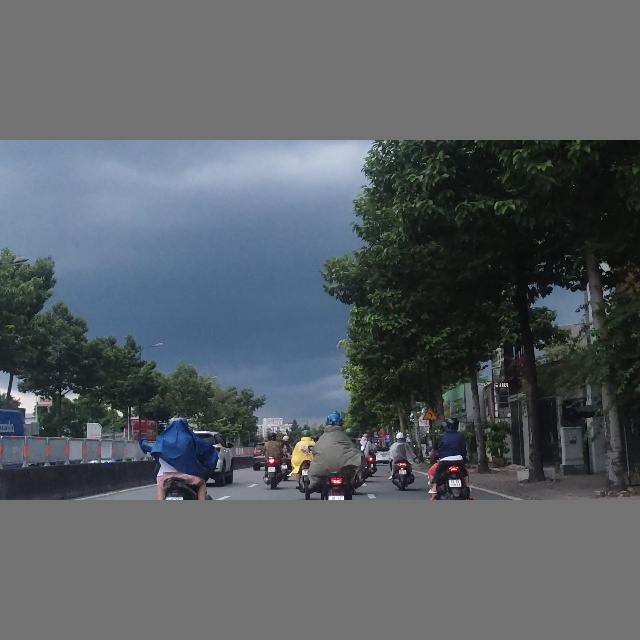W.201a: (422, 407, 438, 420)
